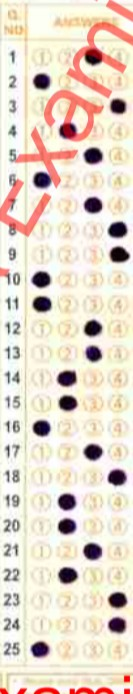filled circles: (108, 469, 127, 486), (108, 221, 127, 237), (57, 370, 76, 386), (110, 246, 129, 262), (58, 567, 77, 583), (84, 319, 101, 336), (58, 493, 75, 510), (84, 444, 102, 460), (83, 543, 101, 559), (32, 271, 50, 287), (84, 147, 102, 163), (84, 197, 101, 213), (58, 518, 75, 534), (33, 171, 50, 187), (84, 48, 101, 64), (33, 420, 50, 436), (59, 395, 77, 410), (108, 592, 126, 607), (31, 641, 49, 656), (110, 98, 126, 114), (33, 296, 50, 311), (33, 73, 50, 88), (59, 123, 76, 138), (108, 617, 125, 632), (85, 346, 101, 361)
